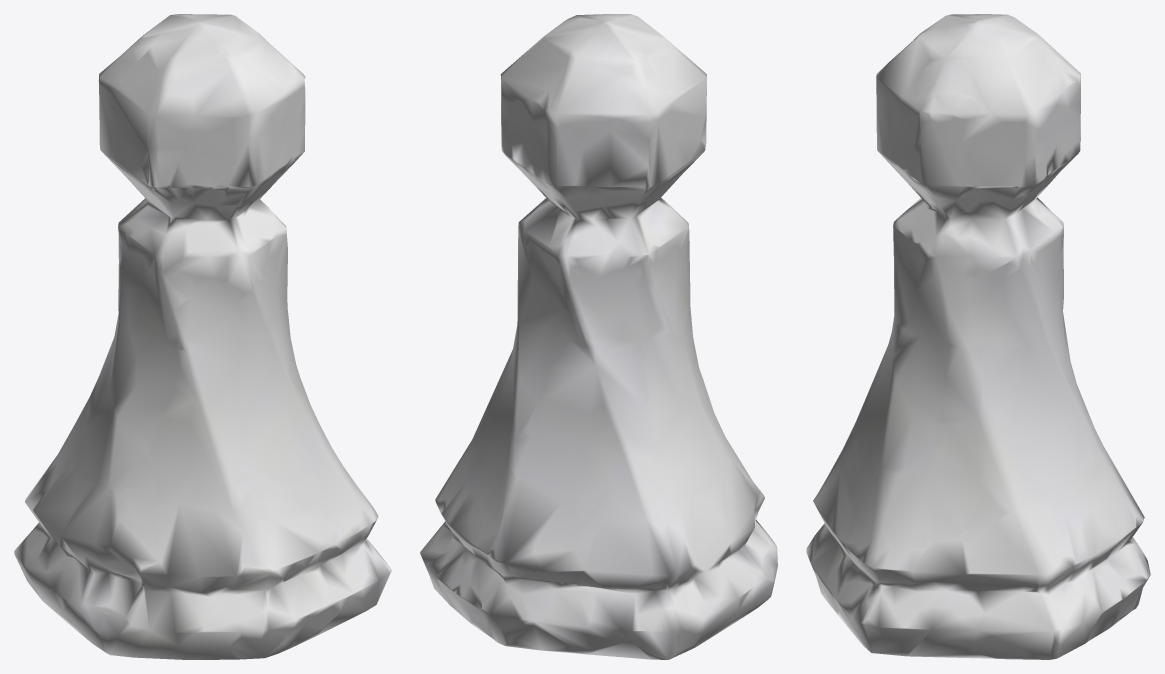
File: hexa_pawn_white.glb
The picture shows the model from 3 angles, left to right: view 1: azimuth 30°, elevation 25°; view 2: azimuth 150°, elevation 25°; view 3: azimuth 270°, elevation 25°; orthographic projection.
Bounding box in the file's own units: 1.06 × 2 × 1.09.
Materials: 1 (1 with a texture image).
